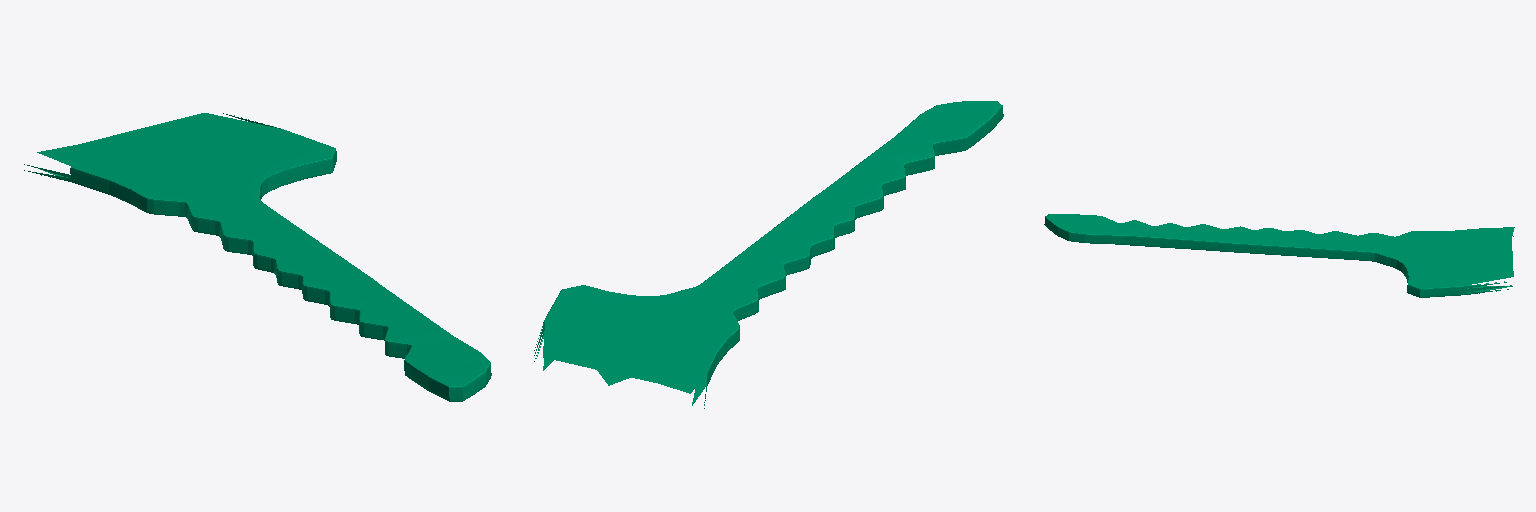
The robot description file, URDF, robot "partnet_158634b1d7d010eeebe67d9b32c3ddf8":
<?xml version="1.0" ?>
<robot name="partnet_158634b1d7d010eeebe67d9b32c3ddf8">
	<link name="base"/>
	<link name="link_0">
		<visual name="lid-13">
			<origin xyz="-0.0034696680649939065 0 -0.005978668064993904"/>
			<geometry>
				<mesh filename="textured_objs/original-2.obj"/>
			</geometry>
		</visual>
		<collision>
			<origin xyz="-0.0034696680649939065 0 -0.005978668064993904"/>
			<geometry>
				<mesh filename="textured_objs/original-2.obj"/>
			</geometry>
		</collision>
	</link>
	<joint name="joint_0" type="continuous">
		<origin xyz="0.0 0 0.0"/>
		<axis xyz="0 1 0"/>
		<child link="link_0"/>
		<parent link="link_0_helper"/>
	</joint>
	<link name="link_1">
		<visual name="body-11">
			<origin xyz="0 0 0"/>
			<geometry>
				<mesh filename="textured_objs/new-3.obj"/>
			</geometry>
		</visual>
		<visual name="neck-12">
			<origin xyz="0 0 0"/>
			<geometry>
				<mesh filename="textured_objs/new-1.obj"/>
			</geometry>
		</visual>
		<visual name="neck-12">
			<origin xyz="0 0 0"/>
			<geometry>
				<mesh filename="textured_objs/new-2.obj"/>
			</geometry>
		</visual>
		<collision>
			<origin xyz="0 0 0"/>
			<geometry>
				<mesh filename="textured_objs/new-3.obj"/>
			</geometry>
		</collision>
		<collision>
			<origin xyz="0 0 0"/>
			<geometry>
				<mesh filename="textured_objs/new-1.obj"/>
			</geometry>
		</collision>
		<collision>
			<origin xyz="0 0 0"/>
			<geometry>
				<mesh filename="textured_objs/new-2.obj"/>
			</geometry>
		</collision>
	</link>
	<joint name="joint_1" type="fixed">
		<origin rpy="1.570796326794897 0 -1.570796326794897" xyz="0 0 0"/>
		<child link="link_1"/>
		<parent link="base"/>
	</joint>
	<link name="link_0_helper"/>
	<joint name="joint_2" type="prismatic">
		<origin xyz="0.0034696680649939065 0 0.005978668064993904"/>
		<axis xyz="0 1 0"/>
		<child link="link_0_helper"/>
		<parent link="link_1"/>
		<limit effort="100.0" lower="-0.1080000000000001" upper="0" velocity="1"/>
	</joint>
</robot>

--- Facts derived from the render (not from the file) ---
3 views of the same robot in one strip: view 1: azimuth 30°, elevation 25°; view 2: azimuth 150°, elevation 25°; view 3: azimuth 270°, elevation 25° (orthographic).
Robot: partnet_158634b1d7d010eeebe67d9b32c3ddf8 — 4 links, 3 joints (1 continuous, 1 prismatic, 1 fixed); root link base; default pose: every joint at zero.
Links seen in each view (by area): view 1: link_1; view 2: link_1; view 3: link_1.
Link boxes in pixels (left/top/right/bottom): link_1: left=24, top=113, right=491, bottom=401; link_1: left=534, top=101, right=1003, bottom=408; link_1: left=1044, top=214, right=1514, bottom=297.
Bounding box of the posed robot: 0.1315 × 0.3693 × 0.0281 m (x, y, z).
1 mesh visuals loaded from 4 distinct referenced files (1 OBJ); not drawn: 3 (reference not matched to a file when rendering).